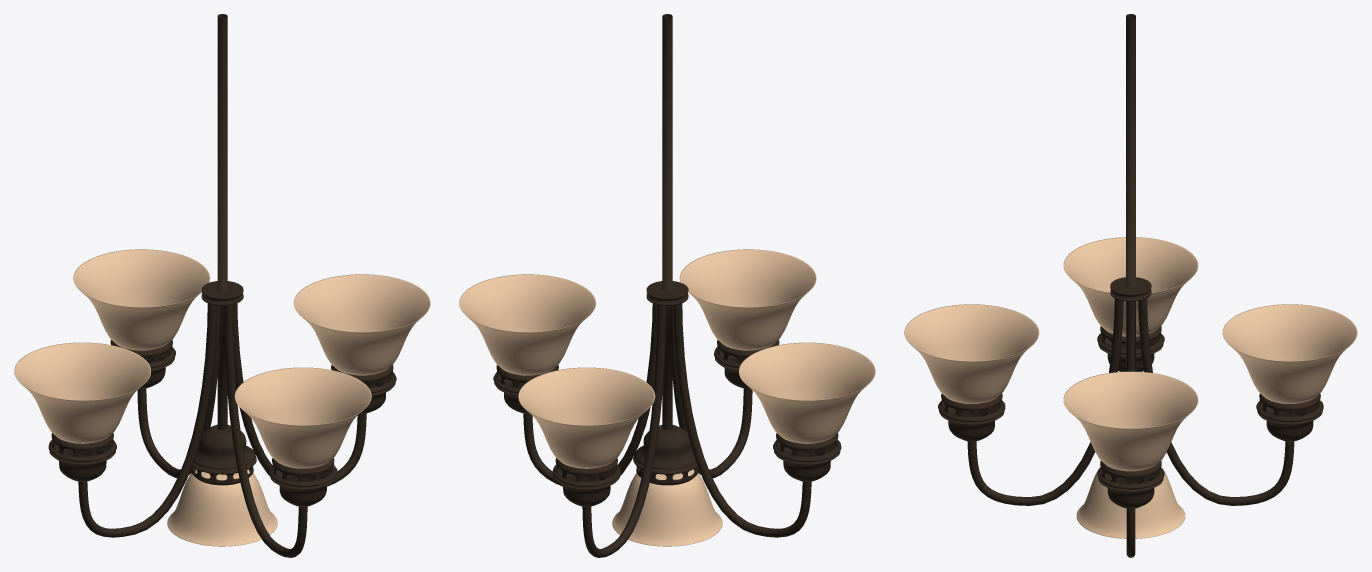
Rendered from Ceiling_lamp.fbx.
3 views of the same model, side by side, from view 1: azimuth 30°, elevation 25°; view 2: azimuth 150°, elevation 25°; view 3: azimuth 270°, elevation 25° (orthographic).
Visible parts, largest first — view 1: Circle, Circle.008, Circle.005, Circle.004, Circle.010, Circle.002, Curve.001, Curve, Circle.009, Circle.006, Circle.001, Curve.002 (+3 smaller); view 2: Circle.008, Circle.004, Circle.005, Circle, Circle.010, Circle.002, Curve.001, Curve.003, Circle.009, Circle.006, Circle.003, Curve.002 (+3 smaller); view 3: Circle.008, Circle.004, Circle, Circle.005, Circle.010, Circle.002, Curve, Curve.003, Circle.003, Circle.001, Circle.007, Curve.002 (+1 smaller).
Boxes of the visible parts, x1,y1,x2,y2 form: Circle: [234, 367, 371, 468]; Circle.008: [293, 274, 430, 375]; Circle.005: [14, 342, 151, 443]; Circle.004: [73, 249, 210, 350]; Circle.010: [167, 469, 277, 546]; Circle.002: [201, 14, 243, 429]; Curve.001: [78, 303, 216, 537]; Curve: [224, 304, 307, 557]; Circle.009: [191, 424, 256, 485]; Circle.006: [48, 433, 116, 481]; Circle.001: [269, 458, 337, 506]; Curve.002: [233, 303, 366, 486]; Circle.008: [459, 274, 596, 375]; Circle.004: [518, 367, 655, 468]; Circle.005: [738, 342, 875, 443]; Circle: [679, 249, 816, 350]; Circle.010: [612, 469, 722, 546]; Circle.002: [646, 14, 688, 429]; Curve.001: [673, 303, 811, 537]; Curve.003: [582, 304, 665, 557]; Circle.009: [633, 425, 698, 485]; Circle.006: [773, 433, 841, 481]; Circle.003: [552, 458, 620, 506]; Curve.002: [523, 303, 656, 486]; Circle.008: [1063, 371, 1198, 471]; Circle.004: [1222, 304, 1357, 403]; Circle: [904, 304, 1039, 403]; Circle.005: [1063, 237, 1198, 336]; Circle.010: [1076, 466, 1185, 538]; Circle.002: [1110, 14, 1151, 371]; Curve: [967, 298, 1123, 505]; Curve.003: [1138, 298, 1294, 505]; Circle.003: [1256, 393, 1323, 441]; Circle.001: [938, 393, 1005, 441]; Circle.007: [1097, 461, 1164, 508]; Curve.002: [1126, 301, 1135, 557].
Size of the model in its own units: 655 by 797 by 655.
